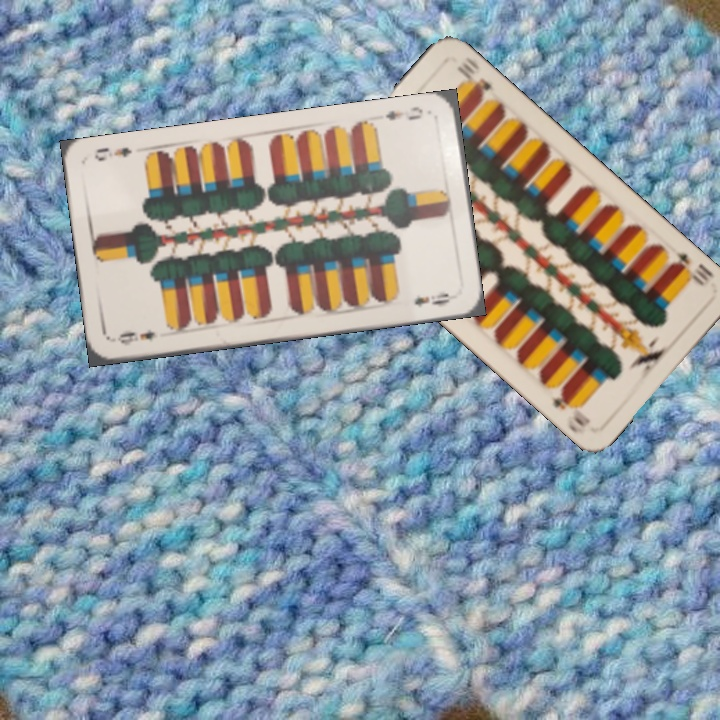E10: (666, 248, 715, 289)
E9: (113, 326, 157, 348), (381, 102, 426, 123)
